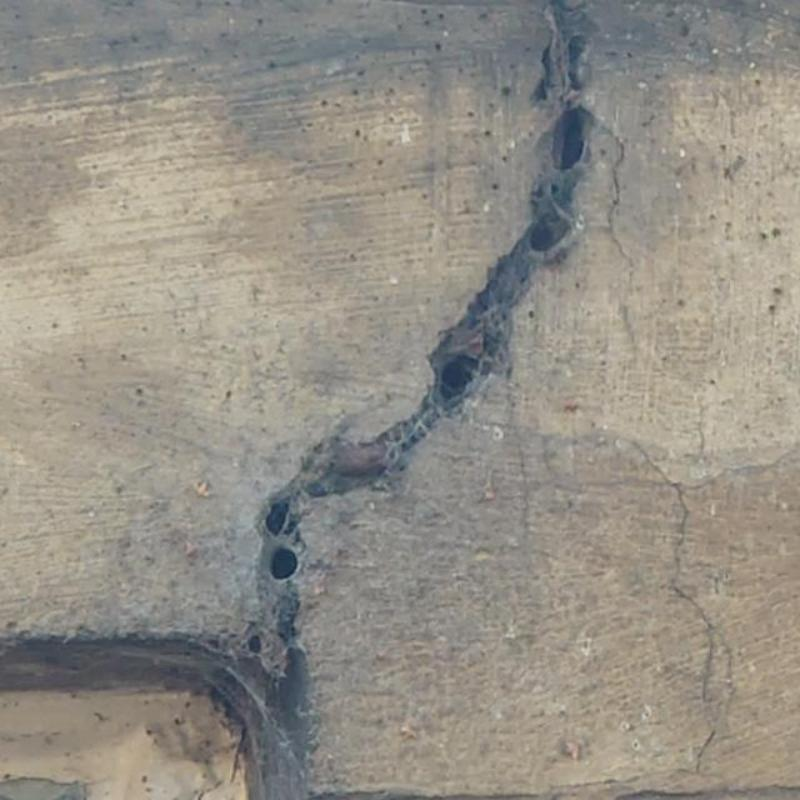pothole: (228, 0, 597, 762), (614, 432, 799, 709), (599, 124, 639, 286), (550, 766, 678, 789), (676, 728, 720, 775), (696, 408, 706, 459)
